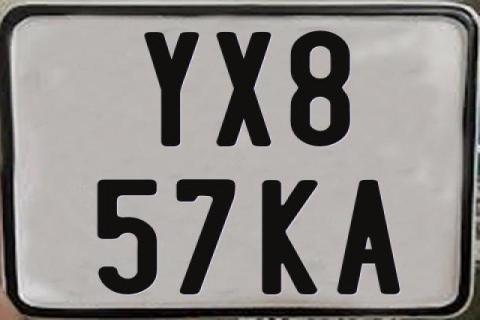0: (289, 30, 353, 148), (175, 179, 237, 295), (96, 178, 157, 294)
A: (335, 180, 399, 294)
K: (260, 180, 318, 298)
X: (215, 32, 275, 150)
Y: (144, 32, 200, 151)
